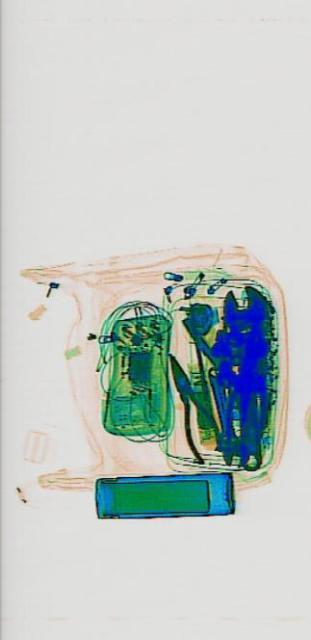Pliers: (156, 337, 220, 469)
Wrench: (220, 284, 272, 472)
